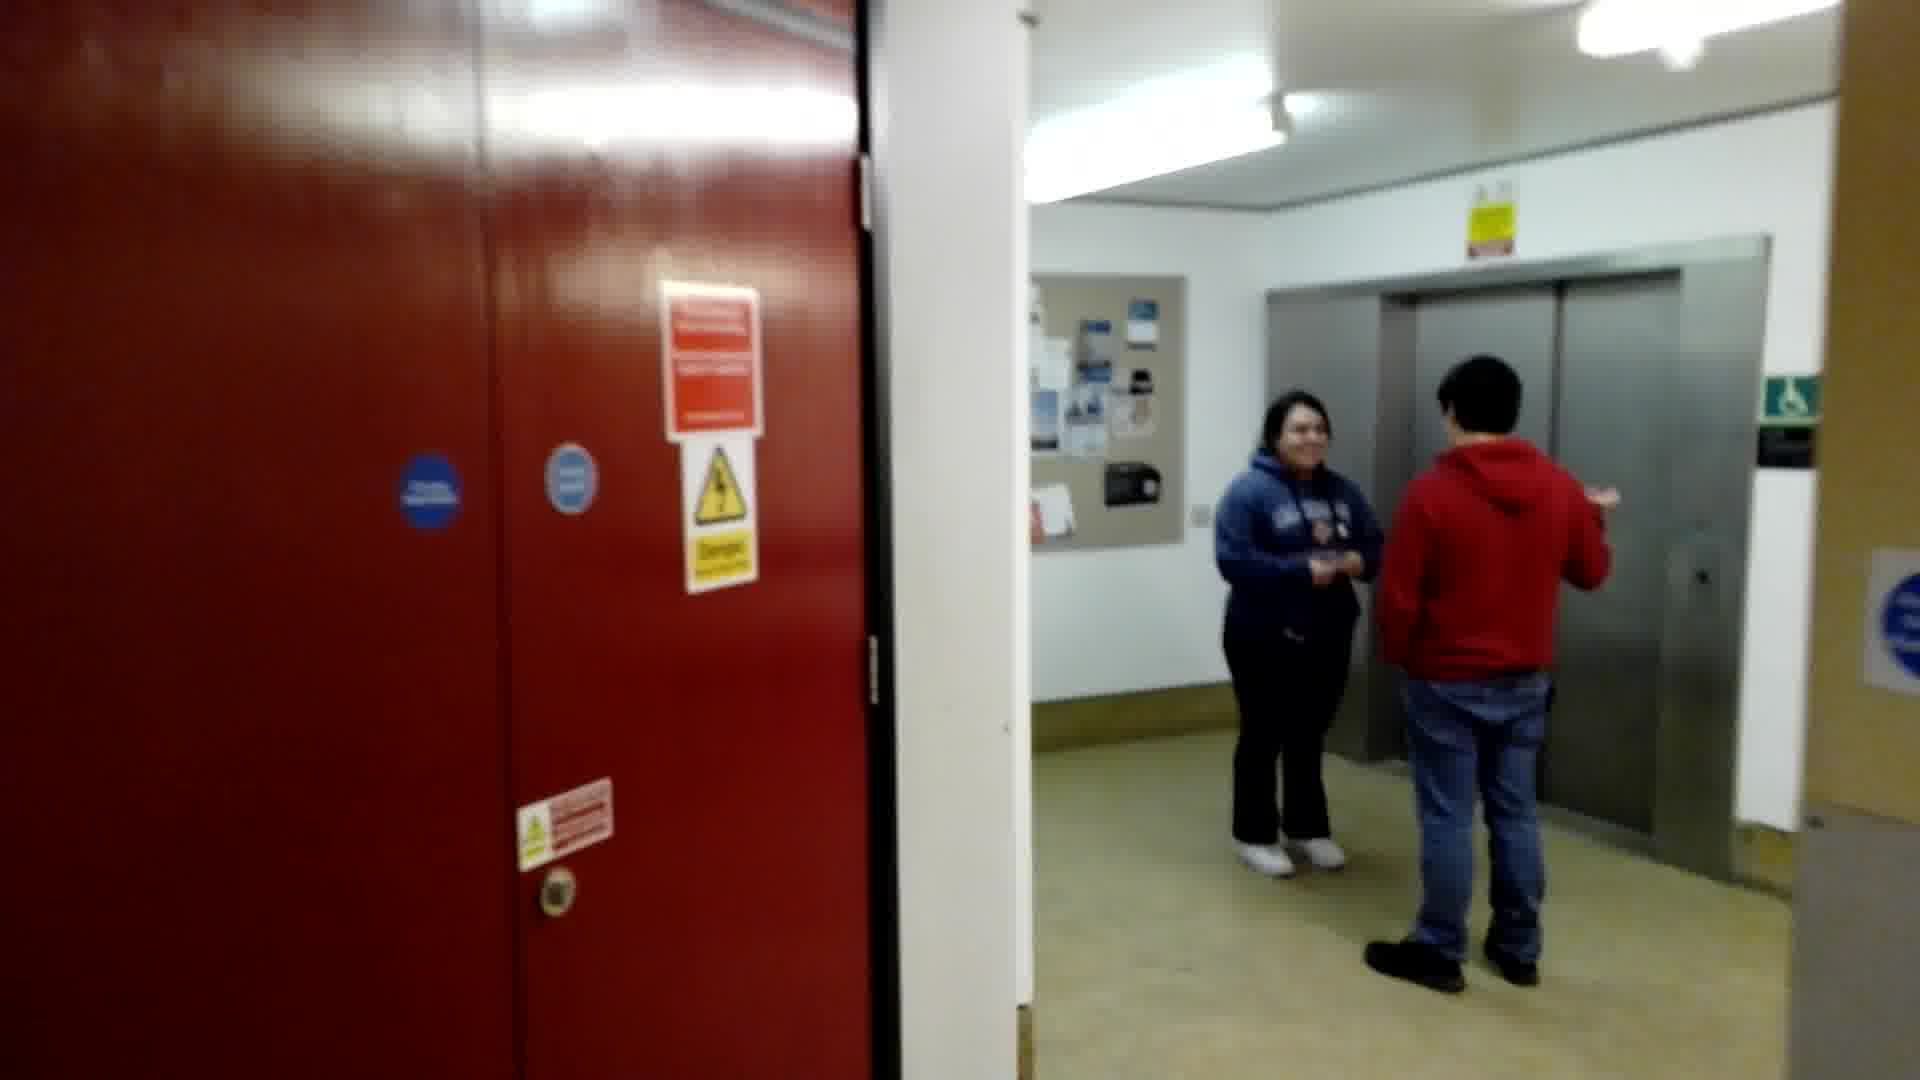Person: (1373, 353, 1621, 1003), (1210, 385, 1377, 886)
